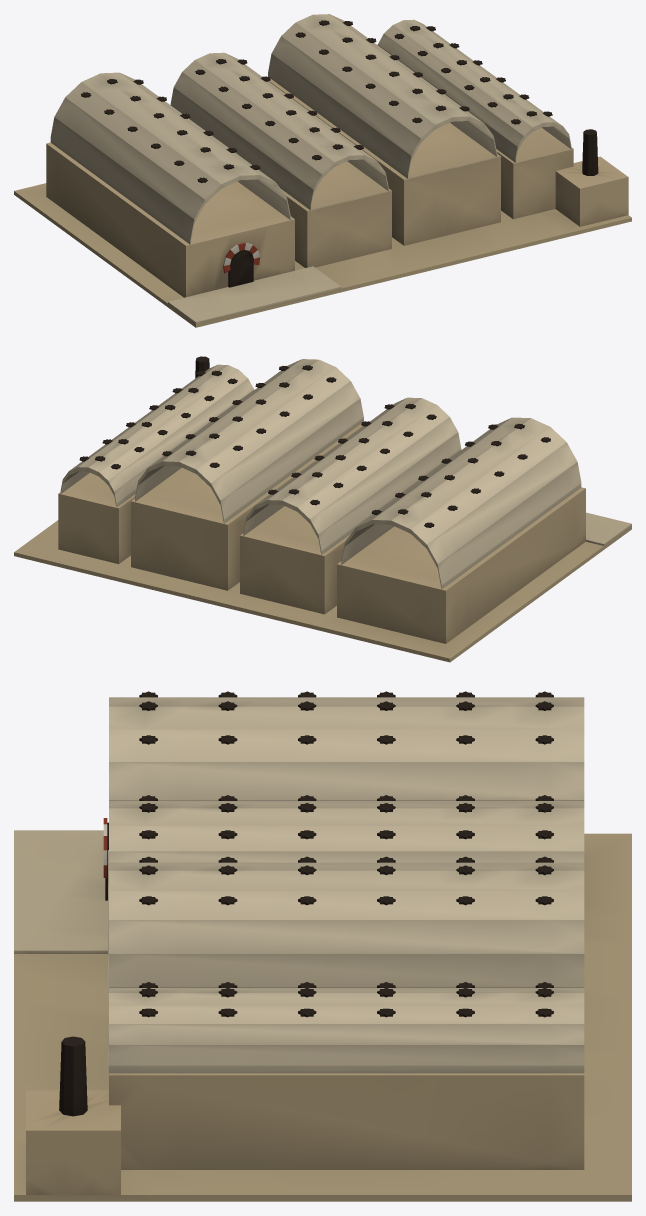
File: caliphal-baths.glb
3 views of the same model, one above another, from view 1: azimuth 30°, elevation 25°; view 2: azimuth 150°, elevation 25°; view 3: azimuth 270°, elevation 25° (orthographic). The views are drawn at different scales.
Parts seen in each view (by area): view 1: p0_walls, p1_vaults, p2_skylights; view 2: p1_vaults, p0_walls, p2_skylights; view 3: p1_vaults, p0_walls, p2_skylights.
Boxes of the visible parts, x1,y1,x2,y2 form: p0_walls: (14, 78, 631, 327); p1_vaults: (50, 14, 573, 287); p2_skylights: (81, 20, 598, 182); p1_vaults: (60, 359, 581, 589); p0_walls: (14, 423, 631, 662); p2_skylights: (79, 356, 550, 527); p1_vaults: (103, 697, 584, 1075); p0_walls: (14, 830, 631, 1201); p2_skylights: (59, 691, 553, 1116).
Size of the model in its own units: 36 by 9.6 by 26.
